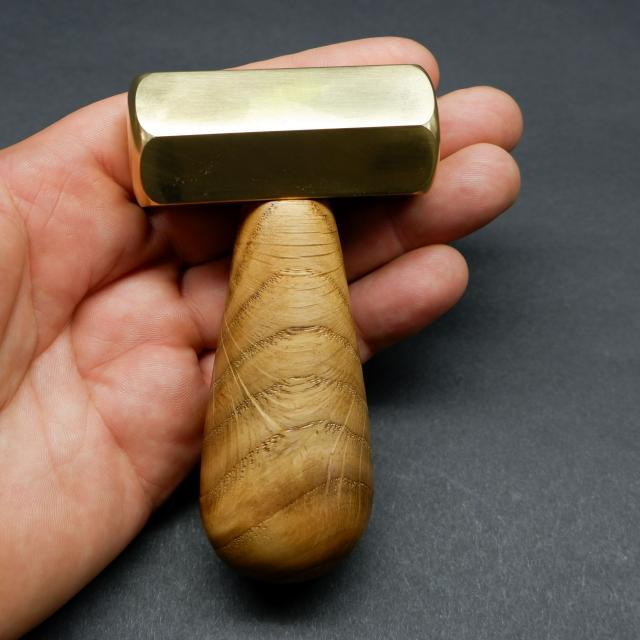hammer: (111, 57, 452, 580)
